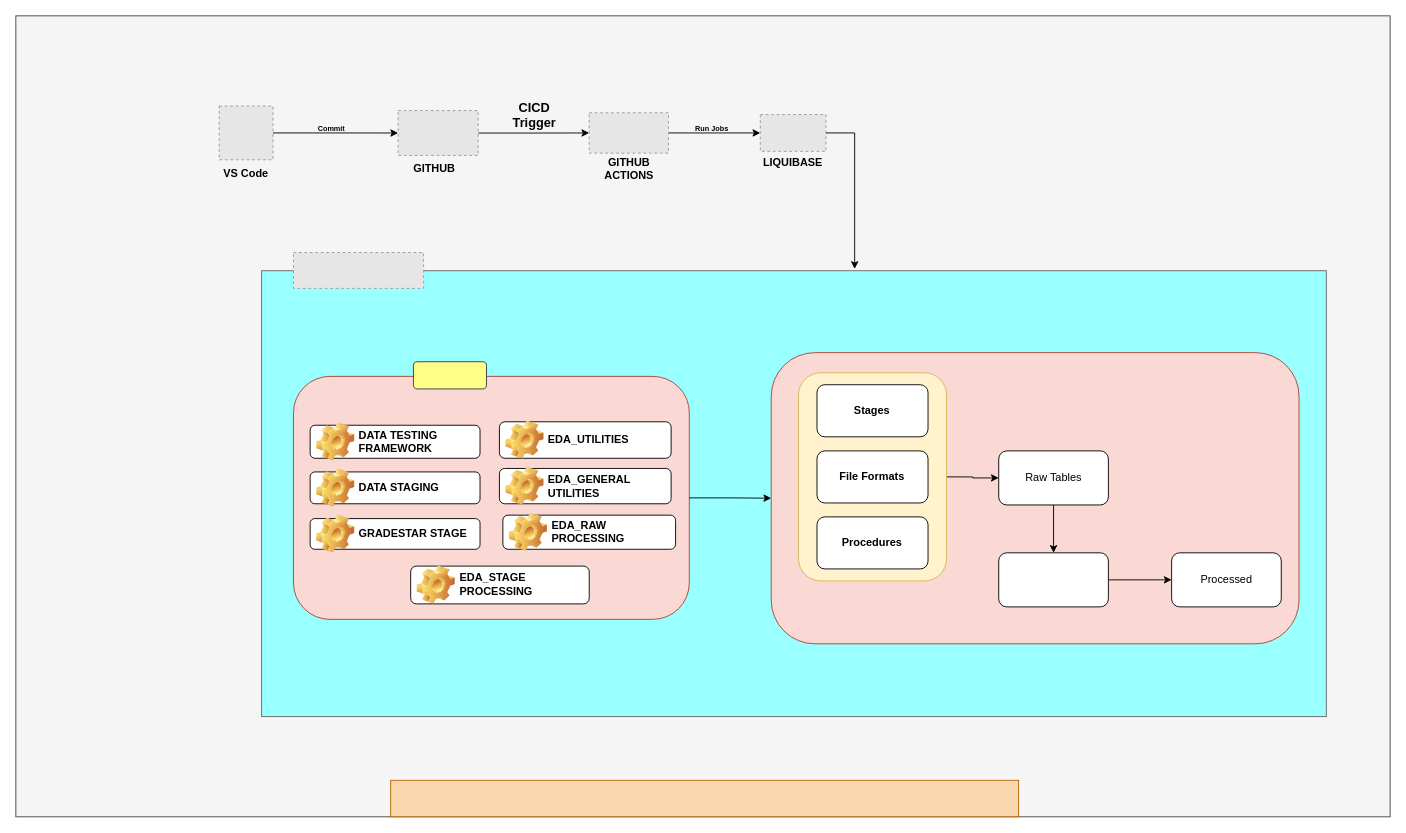
The diagram is 1406 pixels wide and 833 high, and some of its shapes have lost their labels. Grey dashed boxes stand in for pictures. Here are the shapes that lost their labels. From the top down, the centre of each, then its label:
At [449,375]: "Tasks".
At [1053,579]: "Processing".
At [704,798]: "FIG : LIQUIBASE CICD WITH GITHUB ACTIONS".
